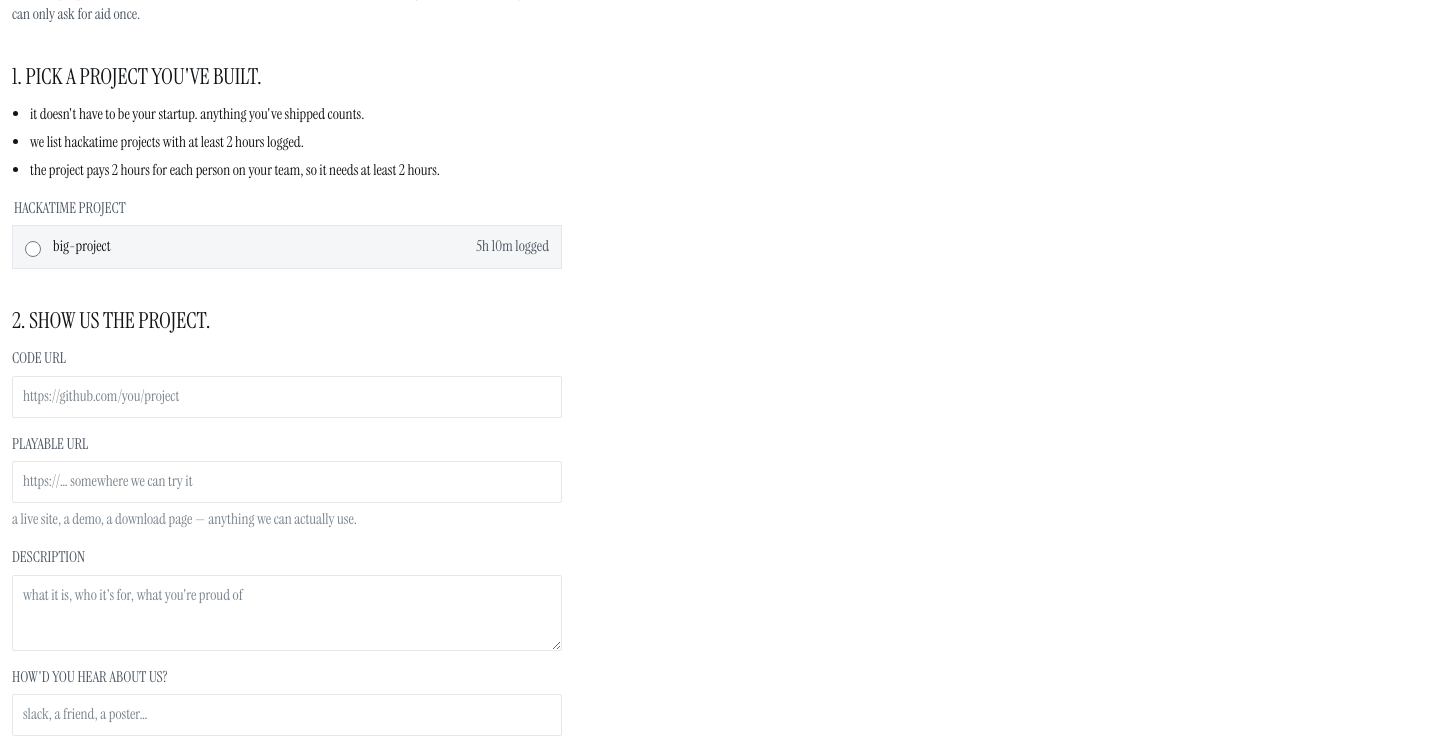
it: ApplyForm — still missing › enables submit and hides the list once complete
The width and height of the screenshot is (1452, 749).
Click the radio button labelled "big-project 5h 10m logged": [33, 249] box 25,241 -> 41,257
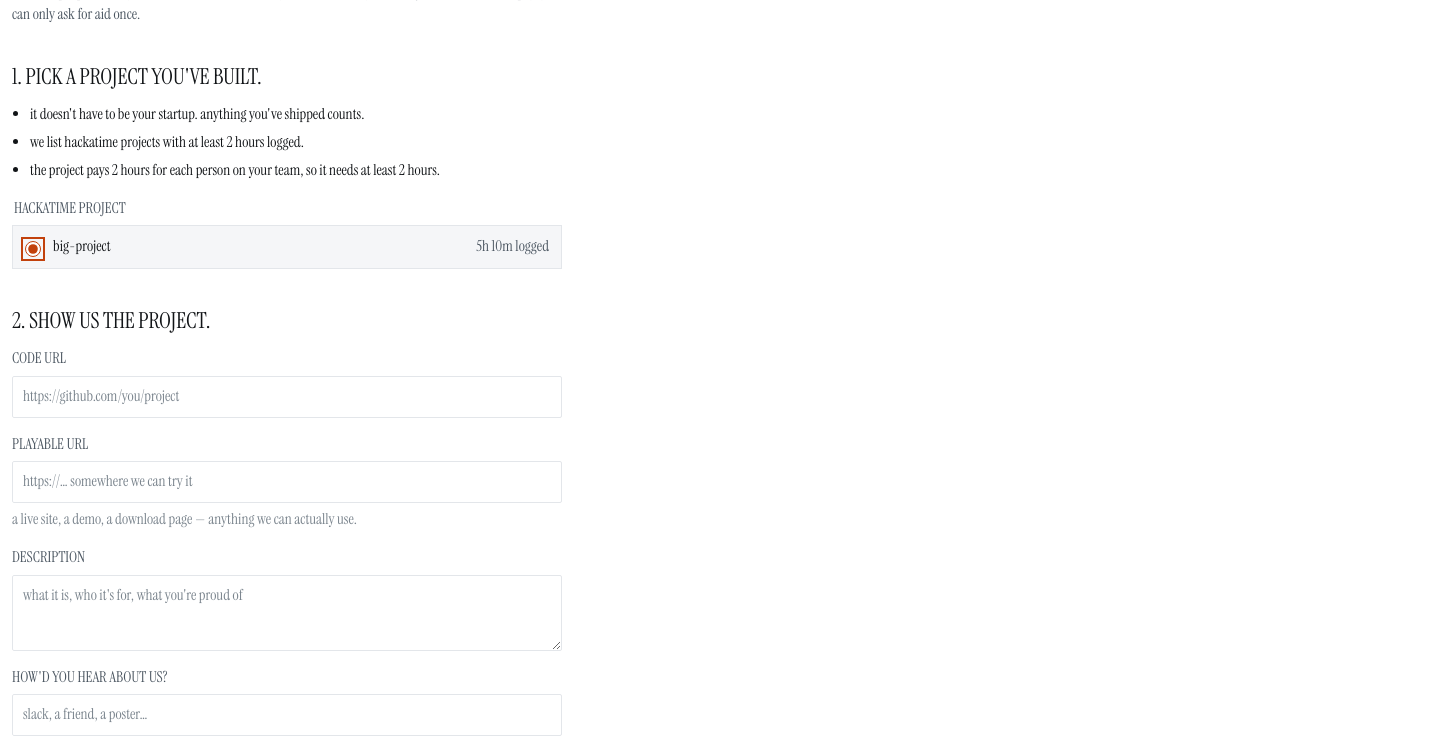
In the field labelled "Code URL": [287, 397] box 12,376 -> 562,418, type "https://github.com/a/b"
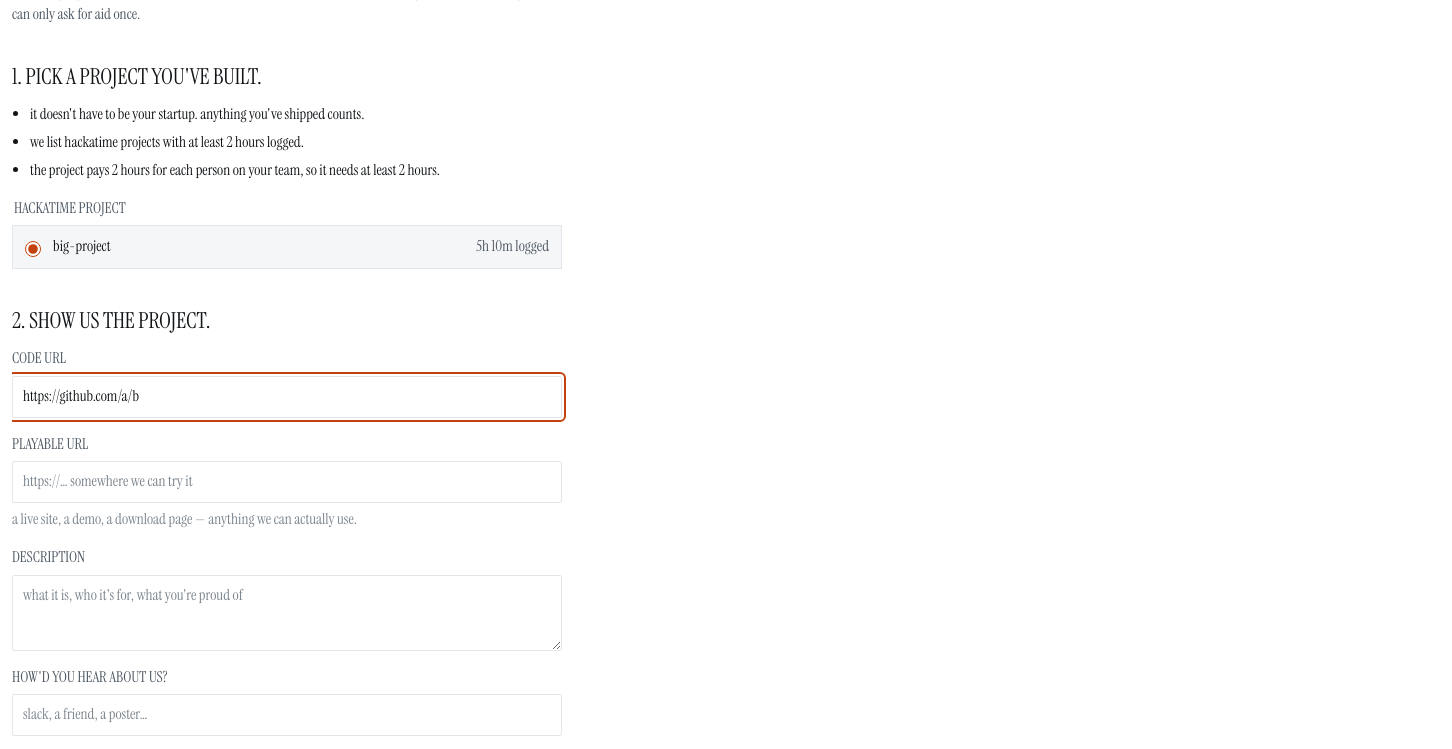
In the field labelled "Playable URL": [287, 482] box 12,461 -> 562,503, type "https://b.example.com"
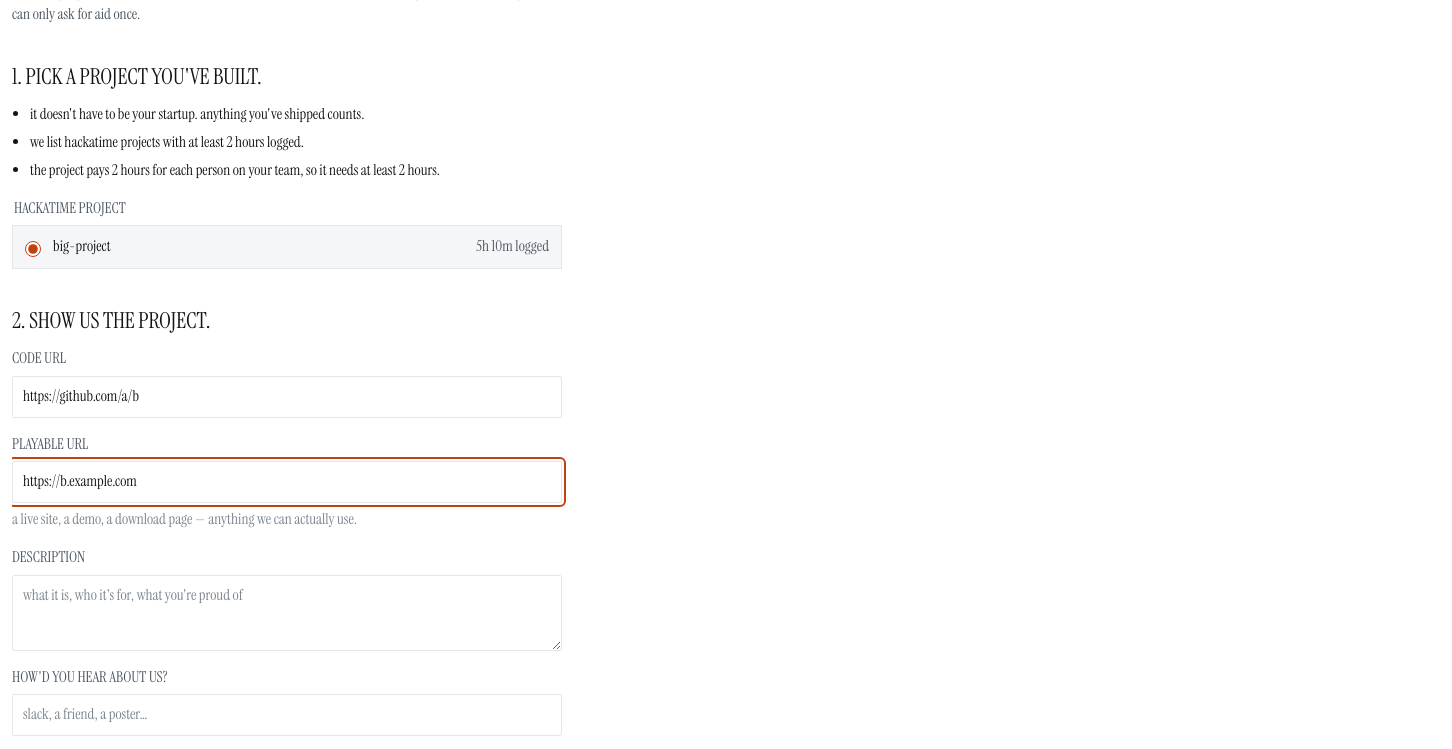
In the text box labelled "Description": [287, 613] box 12,575 -> 562,651, type "a thing"
(page scrolled)
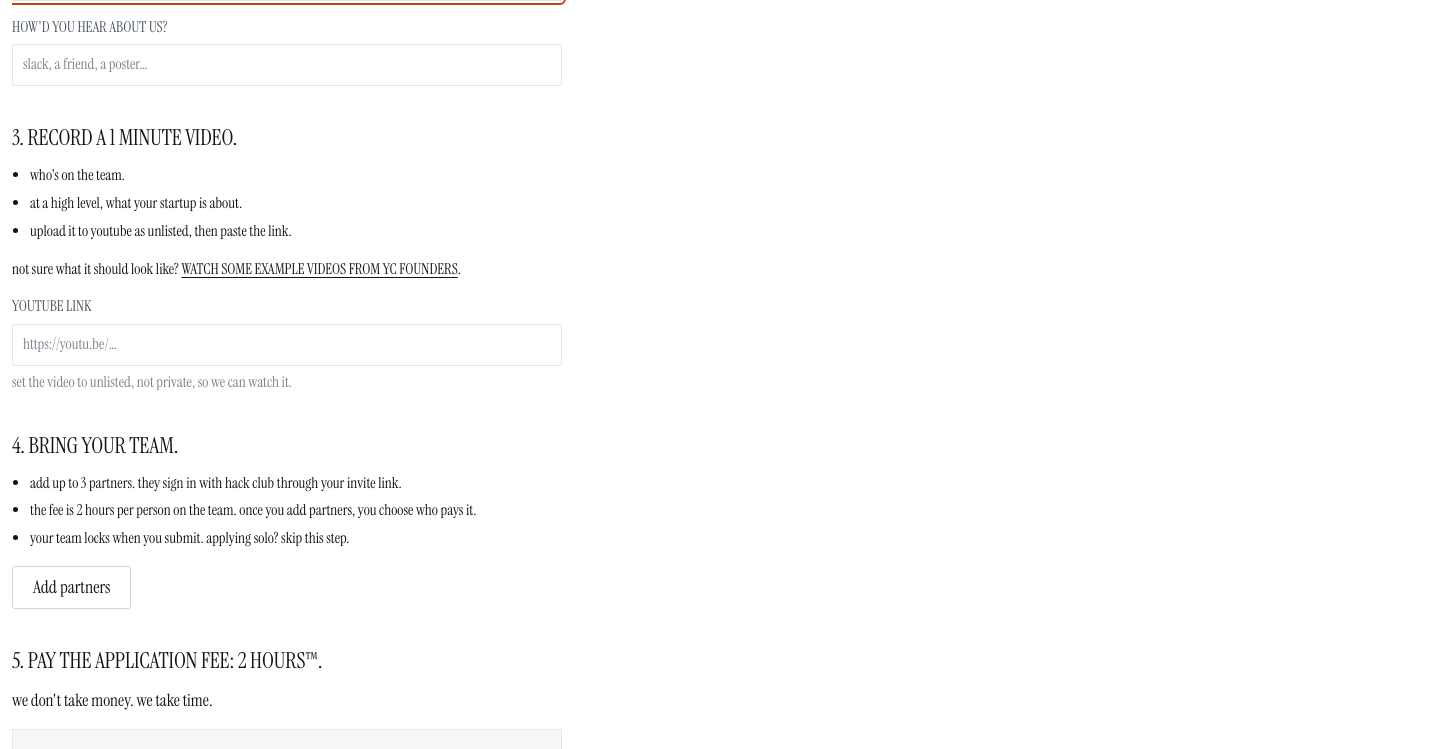
In the field labelled "YouTube link": [287, 345] box 12,324 -> 562,366, type "https://youtu.be/dQw4w9WgXcQ"
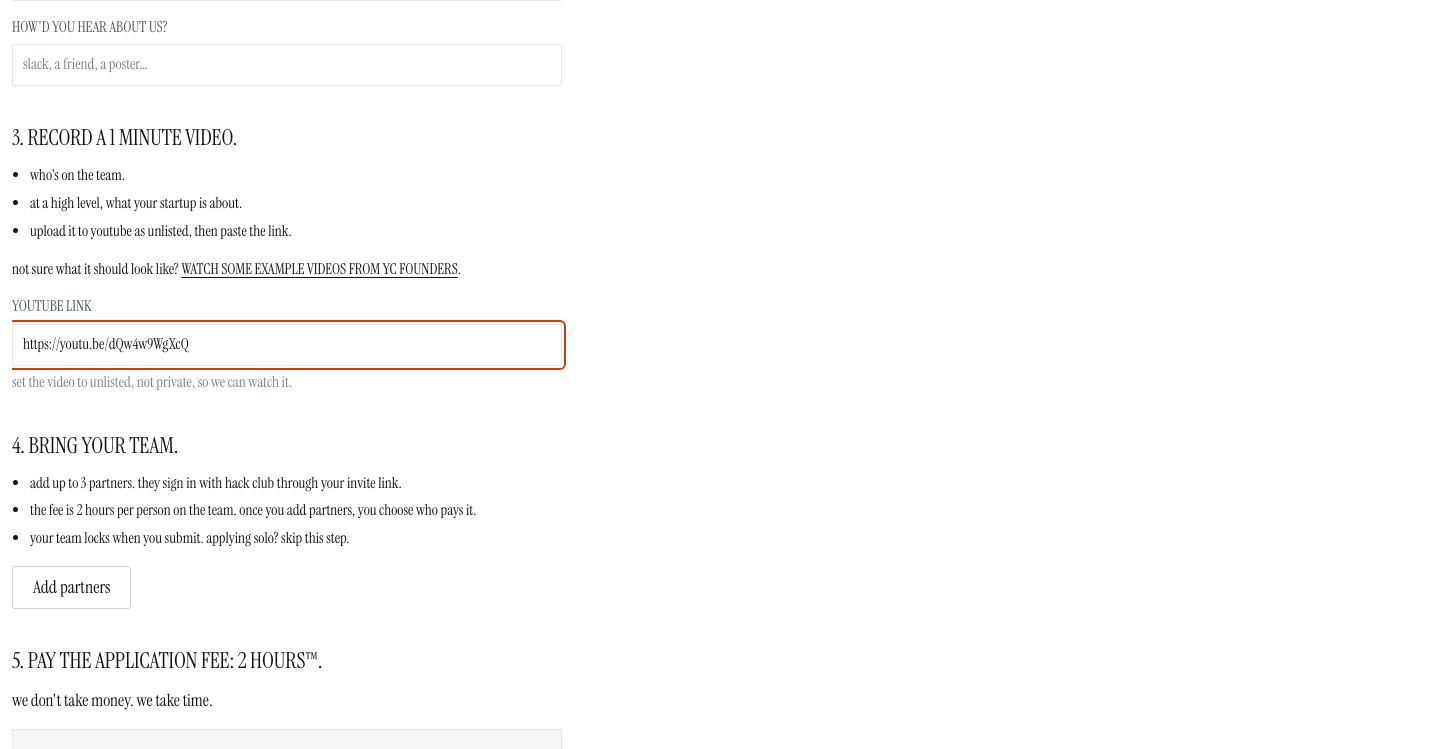
In the field labelled "How'd you hear about us?": [287, 65] box 12,44 -> 562,86, type "slack"
(page scrolled)
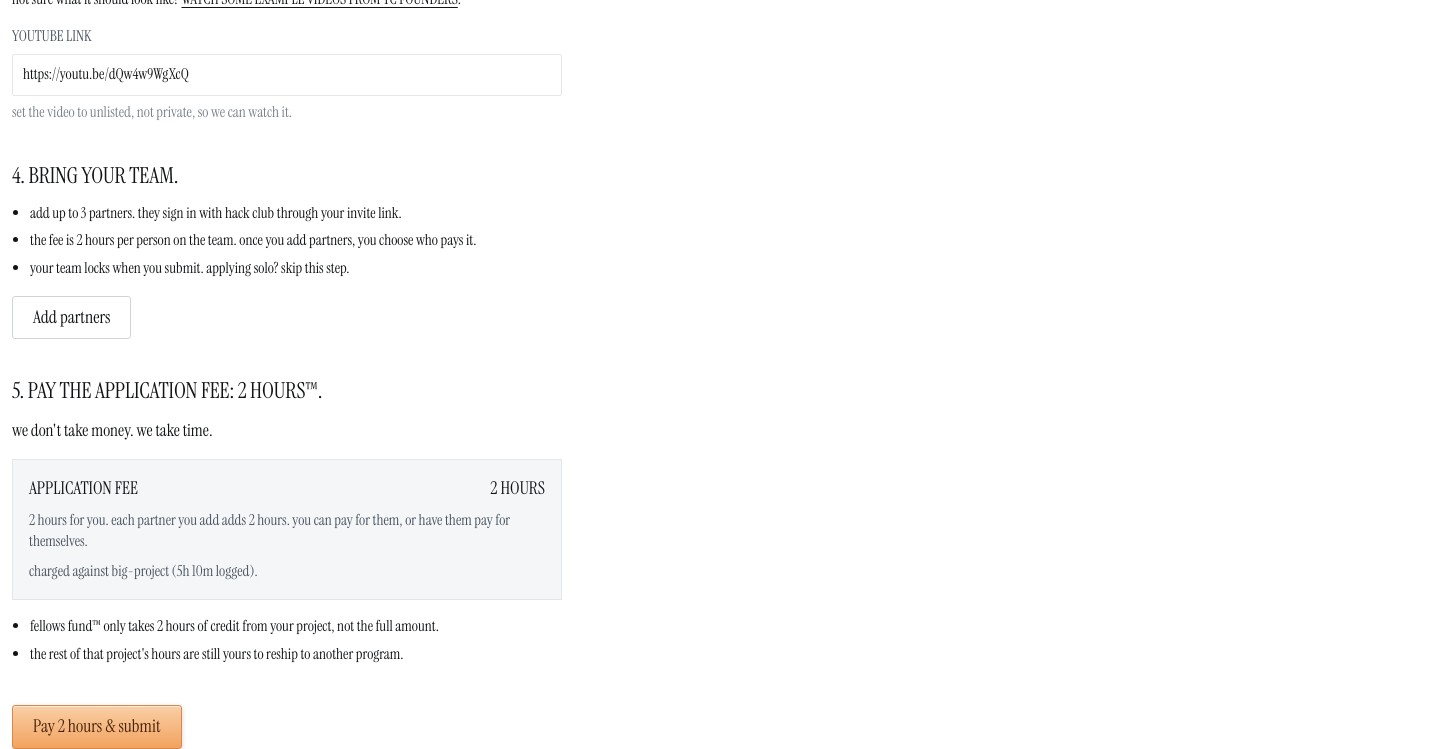
Expected: the text "charged against big-project (5h 10m logged)." is shown, 29,561 -> 258,581
Expected: the button "Pay 2 hours & submit" is enabled, 12,705 -> 182,748
